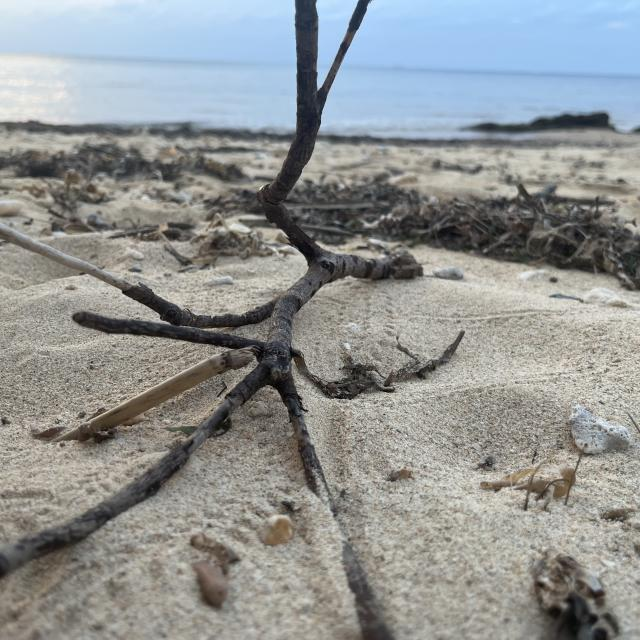seawood: (302, 169, 640, 292)
stick: (0, 2, 425, 640)
